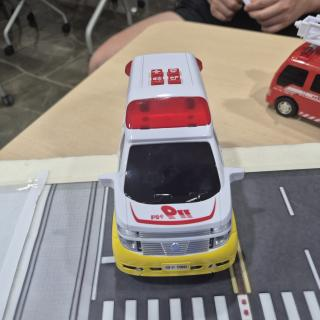Ambulance: (98, 53, 244, 276)
